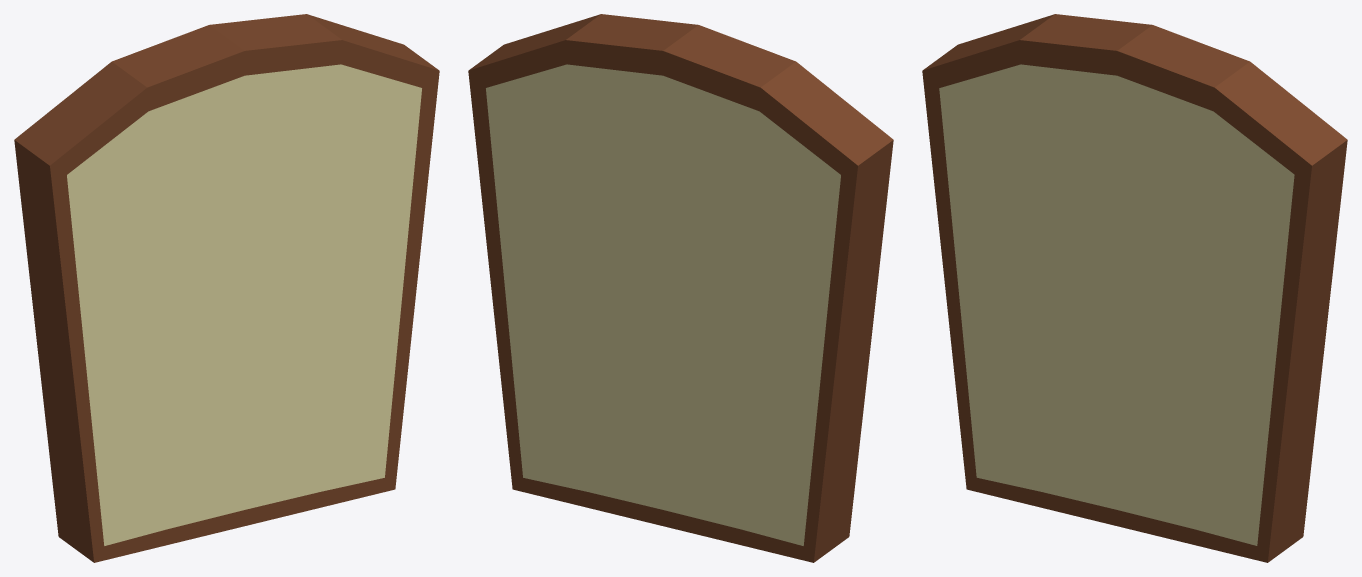
The model's file is bread.fbx.
The picture shows the model from 3 angles, left to right: view 1: azimuth 30°, elevation 25°; view 2: azimuth 150°, elevation 25°; view 3: azimuth 330°, elevation 25°; orthographic projection.
Parts seen in each view (by area): view 1: Cube; view 2: Cube; view 3: Cube.
Part boxes in pixels (<box>): Cube: <box>14,14,439,562</box>; Cube: <box>468,14,893,562</box>; Cube: <box>922,14,1347,562</box>.
Size of the model in its own units: 2 by 2.33 by 0.3163.
